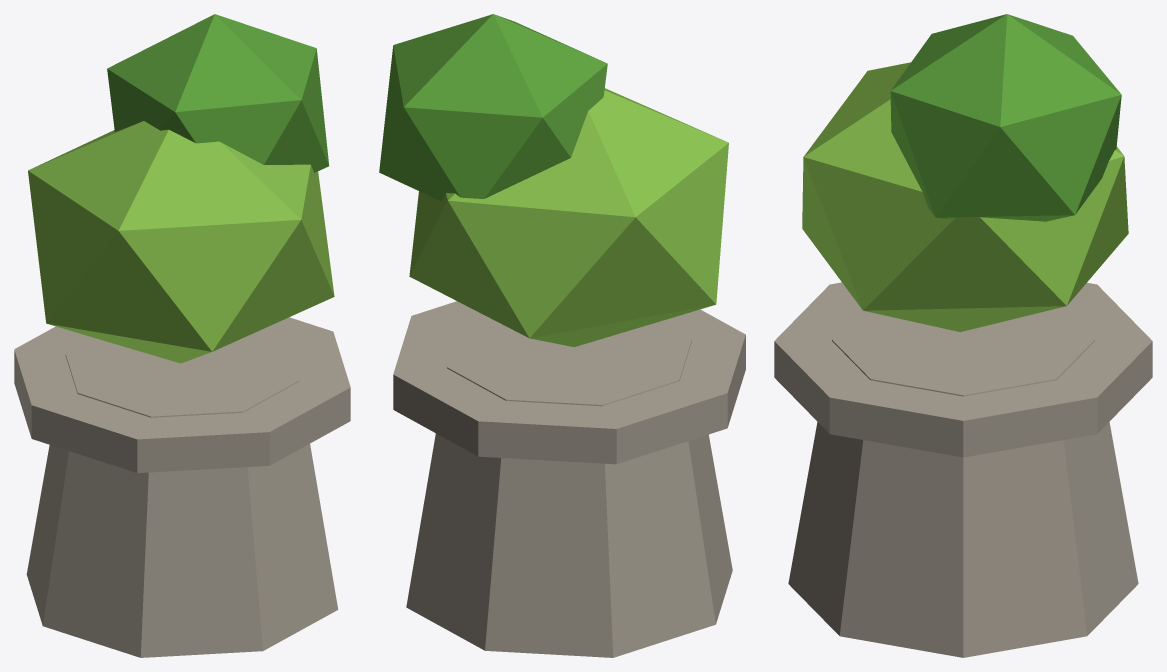
Rendered from garden2_potted_fern.glb.
3 renders of one model, left to right at view 1: azimuth 30°, elevation 25°; view 2: azimuth 150°, elevation 25°; view 3: azimuth 270°, elevation 25°, orthographic. The views are drawn at different scales.
Visible parts, largest first — view 1: potted_fern; view 2: potted_fern; view 3: potted_fern.
Part boxes in pixels (x1,y1,x2,y2): potted_fern: (14, 14, 350, 657); potted_fern: (379, 14, 745, 657); potted_fern: (774, 14, 1152, 657).
Bounding box in the file's own units: 0.2811 × 0.4896 × 0.2808.
